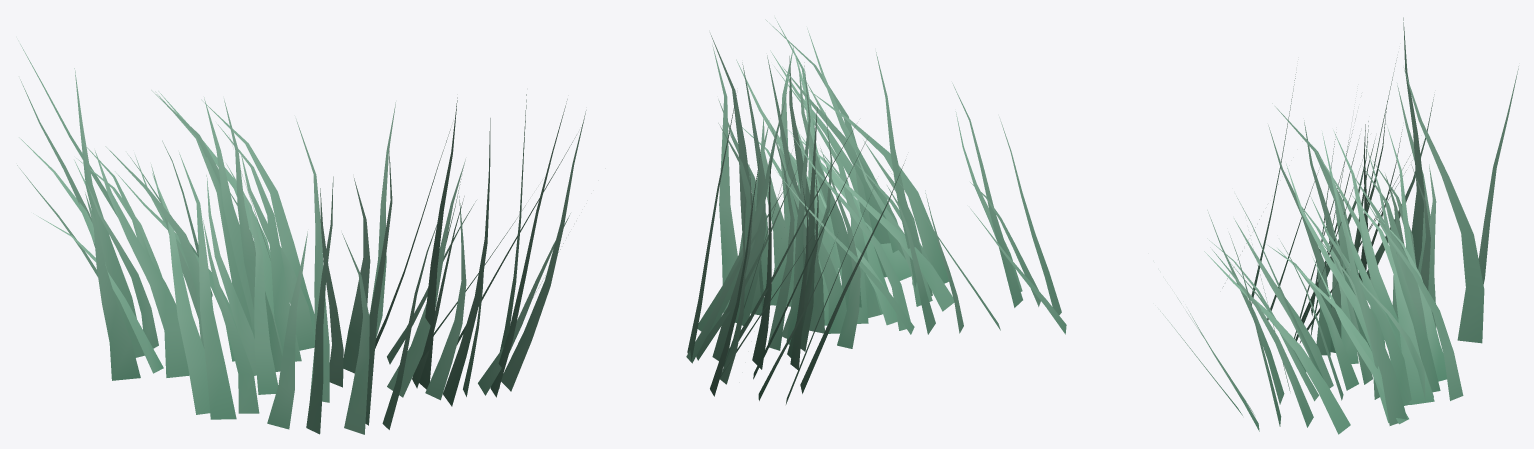
Rendered from mesh-plant-018-jade-puff_LOD1.glb.
3 renders of one model, left to right at view 1: azimuth 30°, elevation 25°; view 2: azimuth 150°, elevation 25°; view 3: azimuth 270°, elevation 25°, orthographic. The views are drawn at different scales.
Visible parts, largest first — view 1: geometry_0; view 2: geometry_0; view 3: geometry_0.
Boxes of the visible parts, <box> form: geometry_0: <box>17,40,586,434</box>; geometry_0: <box>686,18,1066,404</box>; geometry_0: <box>1160,17,1518,434</box>.
Size of the model in its own units: 1.39 by 0.7669 by 1.17.
